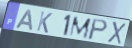1: (62, 14, 73, 37)
A: (14, 9, 33, 32)
K: (35, 11, 53, 35)
M: (68, 16, 93, 40)
P: (87, 18, 110, 41)
X: (107, 21, 127, 46)
